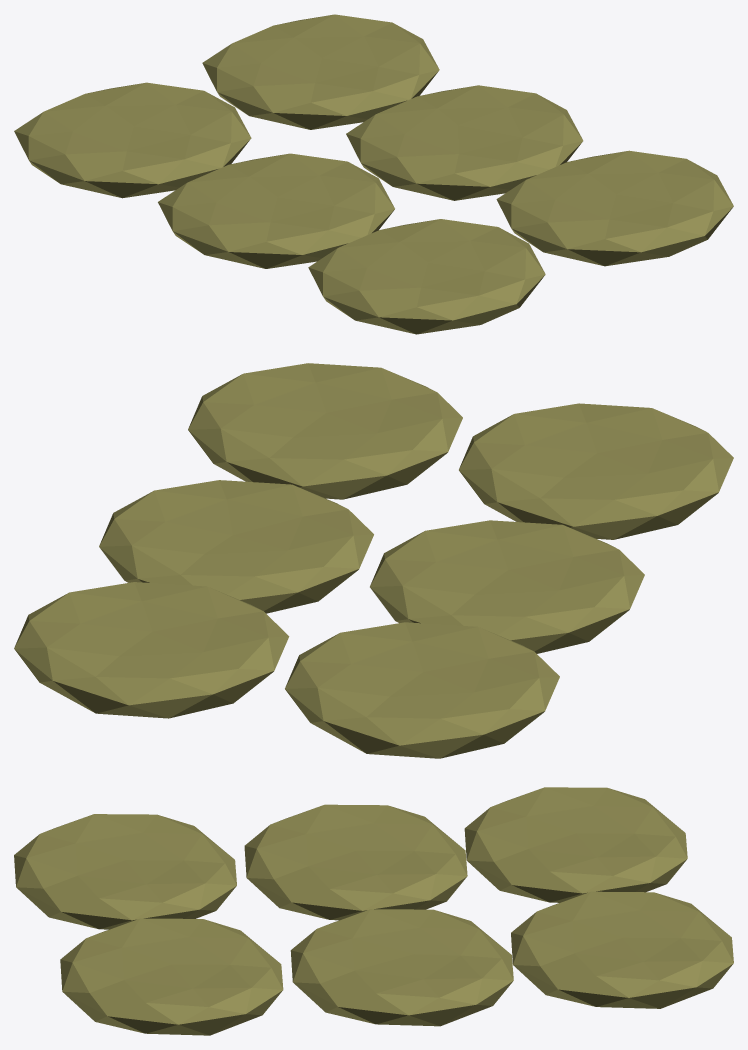
File: FarmGround.fbx
3 views of the same model, one above another, from view 1: azimuth 30°, elevation 25°; view 2: azimuth 150°, elevation 25°; view 3: azimuth 270°, elevation 25° (orthographic). The views are drawn at different scales.
Visible parts, largest first — view 1: Icosphere.099, Icosphere.098, Icosphere.013, Icosphere.027, Icosphere.018, Icosphere.097; view 2: Icosphere.027, Icosphere.013, Icosphere.098, Icosphere.099, Icosphere.097, Icosphere.018; view 3: Icosphere.099, Icosphere.018, Icosphere.013, Icosphere.097, Icosphere.027, Icosphere.098.
Part boxes in pixels (x1=…): Icosphere.099: x1=496, y1=150, x2=733, y2=266; Icosphere.098: x1=308, y1=219, x2=545, y2=334; Icosphere.013: x1=202, y1=14, x2=439, y2=129; Icosphere.027: x1=14, y1=82, x2=251, y2=198; Icosphere.018: x1=346, y1=85, x2=583, y2=200; Icosphere.097: x1=158, y1=153, x2=394, y2=268; Icosphere.027: x1=285, y1=622, x2=559, y2=758; Icosphere.013: x1=14, y1=582, x2=289, y2=718; Icosphere.098: x1=459, y1=403, x2=733, y2=539; Icosphere.099: x1=188, y1=363, x2=462, y2=499; Icosphere.097: x1=370, y1=520, x2=644, y2=653; Icosphere.018: x1=99, y1=480, x2=373, y2=613; Icosphere.099: x1=60, y1=918, x2=283, y2=1035; Icosphere.018: x1=290, y1=909, x2=513, y2=1026; Icosphere.013: x1=511, y1=891, x2=733, y2=1008; Icosphere.097: x1=244, y1=804, x2=467, y2=920; Icosphere.027: x1=464, y1=787, x2=687, y2=902; Icosphere.098: x1=14, y1=814, x2=236, y2=929.
Size of the model in its own units: 3348 by 298 by 4180.
